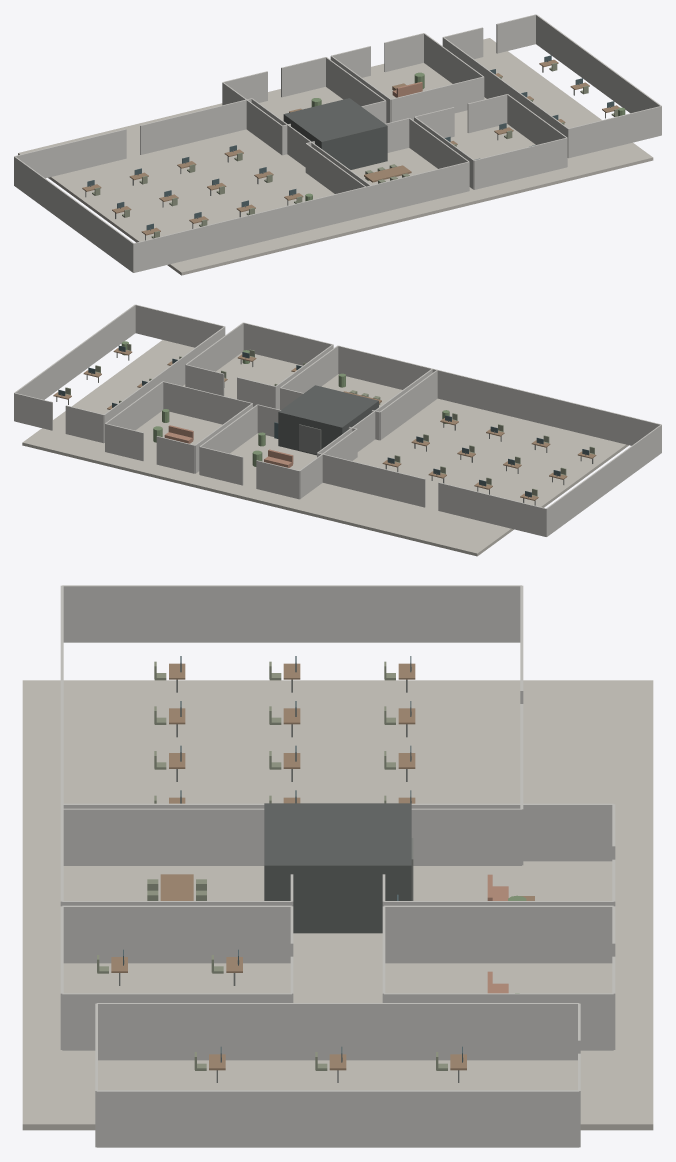
3 renders of one model, top to bottom at view 1: azimuth 30°, elevation 25°; view 2: azimuth 150°, elevation 25°; view 3: azimuth 270°, elevation 25°, orthographic. The views are drawn at different scales.
Visible parts, largest first — view 1: L4_slab, flex_neighborhood_north, L4_core, flex_neighborhood_west, multipurpose_capacity_east, flex_neighborhood_south_r, project_rooms_north, flex_neighborhood_south_l, focus_north, multipurpose_capacity_north, quiet_restore_north, multipurpose_capacity_west (+20 smaller); view 2: L4_slab, flex_neighborhood_north, L4_core, flex_neighborhood_west, multipurpose_capacity_east, flex_neighborhood_south_l, flex_neighborhood_south_r, project_rooms_north, multipurpose_capacity_north, quiet_restore_north, focus_north, project_rooms_west (+19 smaller); view 3: L4_slab, multipurpose_capacity_east, multipurpose_capacity_west, flex_neighborhood_west, flex_neighborhood_east, L4_core, quiet_restore_west, focus_west, collaboration_west, focus_east, quiet_restore_east, project_rooms_west (+4 smaller).
Boxes of the visible parts, x1,y1,x2,y2 form: L4_slab: (18,38,653,275); flex_neighborhood_north: (133,186,371,272); L4_core: (283,98,387,169); flex_neighborhood_west: (14,156,133,272); multipurpose_capacity_east: (536,14,661,134); flex_neighborhood_south_r: (140,98,251,154); project_rooms_north: (366,161,469,215); flex_neighborhood_south_l: (14,129,126,178); focus_north: (474,137,567,189); multipurpose_capacity_north: (568,106,661,157); quiet_restore_north: (391,76,483,122); multipurpose_capacity_west: (442,37,568,157); L4_slab: (22,340,628,556); flex_neighborhood_north: (432,369,661,445); L4_core: (278,385,378,455); flex_neighborhood_west: (546,424,661,536); multipurpose_capacity_east: (14,304,135,420); flex_neighborhood_south_l: (438,482,546,536); flex_neighborhood_south_r: (317,453,425,507); project_rooms_north: (338,345,436,389); multipurpose_capacity_north: (135,304,224,347); quiet_restore_north: (163,381,252,424); focus_north: (243,322,332,365); project_rooms_west: (380,370,437,440); L4_slab: (22,680,653,1130); multipurpose_capacity_east: (96,1090,579,1147); multipurpose_capacity_west: (96,1003,579,1060); flex_neighborhood_west: (62,585,521,642); flex_neighborhood_east: (62,808,521,865); L4_core: (264,803,411,933); quiet_restore_west: (384,905,613,963); focus_west: (62,905,291,963); collaboration_west: (411,803,613,861); focus_east: (62,993,291,1050); quiet_restore_east: (384,993,613,1050); project_rooms_west: (63,803,264,808).
Size of the model in its own units: 52.12 by 3.54 by 27.43.
